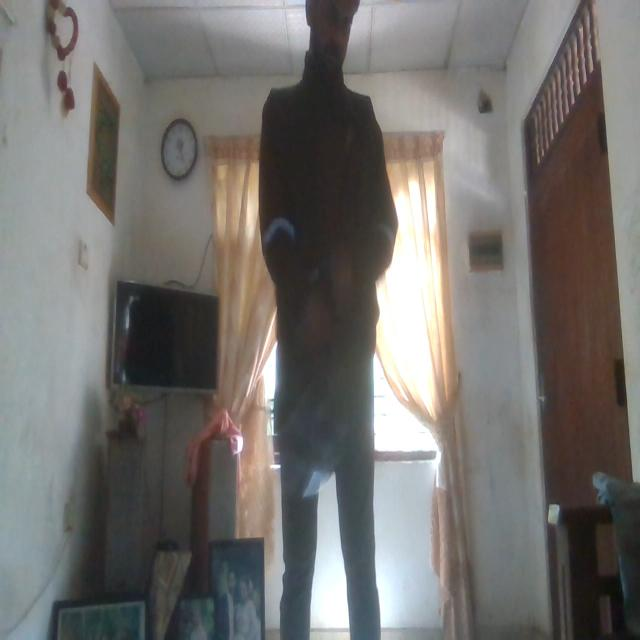Jacket_Wearer: (255, 70, 395, 453)
Person: (252, 0, 404, 632)
